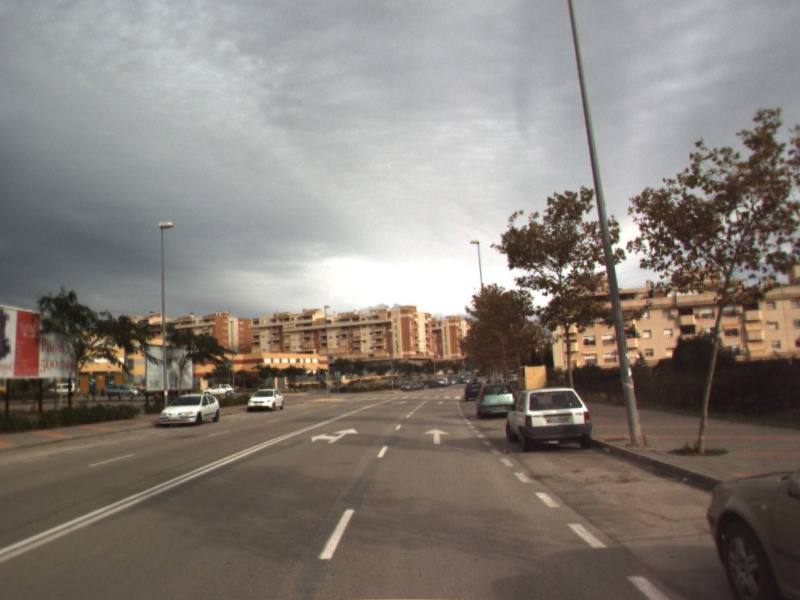STRAIGHT: (422, 426, 451, 446)
STRAIGHT_LEFT: (309, 426, 360, 446)
